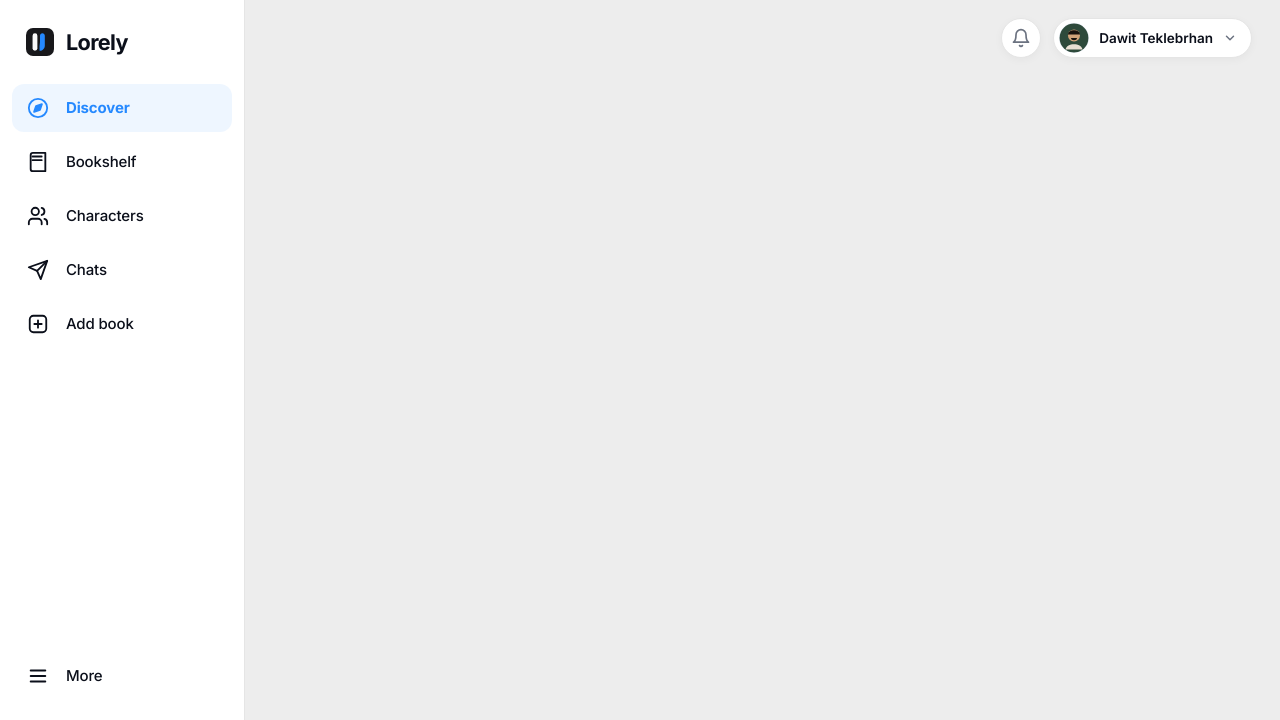
Instagram-Style Reader App Shell Navigation (Phase 1) › opens Add Book modal when Add book navigation button is clicked
Click the button "Add book": click(122, 324) x1=12 y1=300 x2=232 y2=348
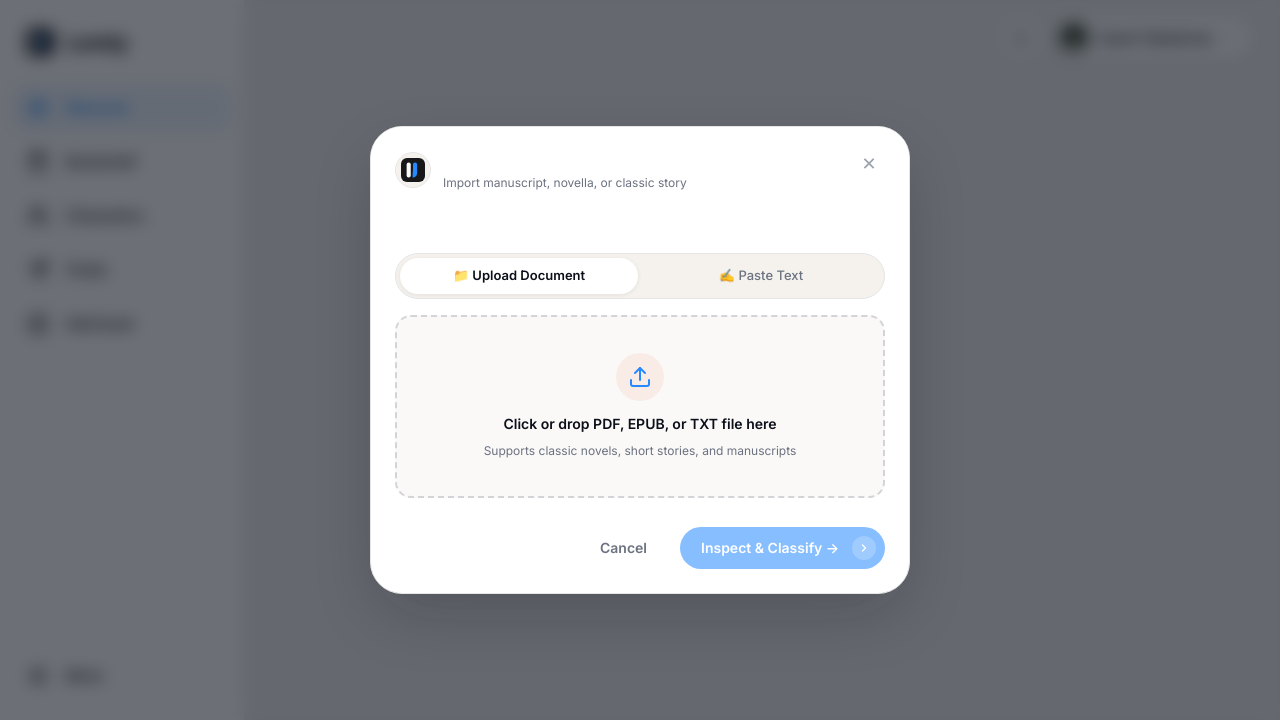
Expected: the dialog "Add a Book" is shown
